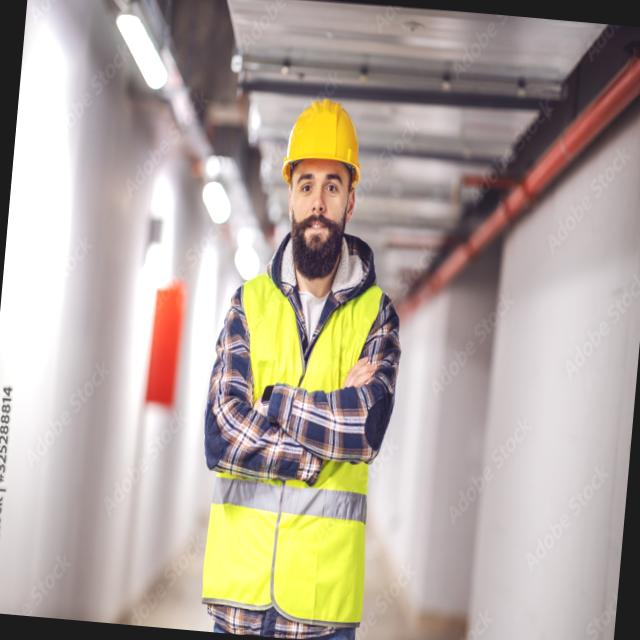helmet: (278, 90, 370, 194)
no-goggles: (284, 154, 357, 212)
vest: (196, 262, 394, 630)
